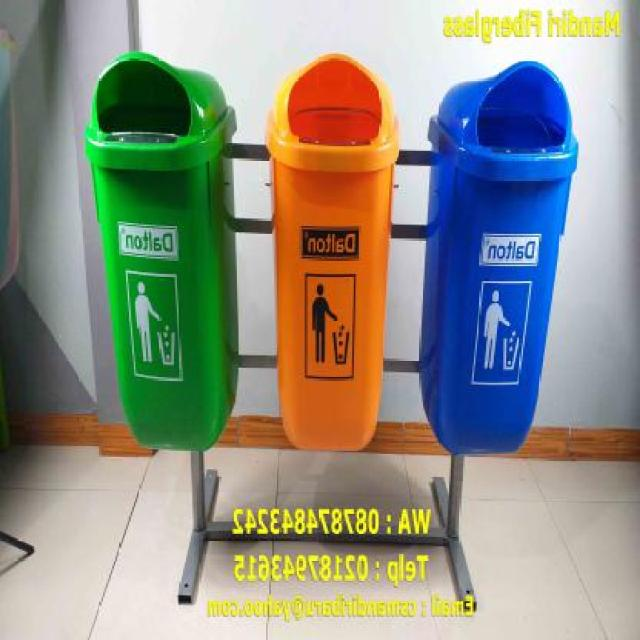garbage container: (79, 32, 246, 490), (417, 52, 588, 488), (258, 35, 409, 468)
